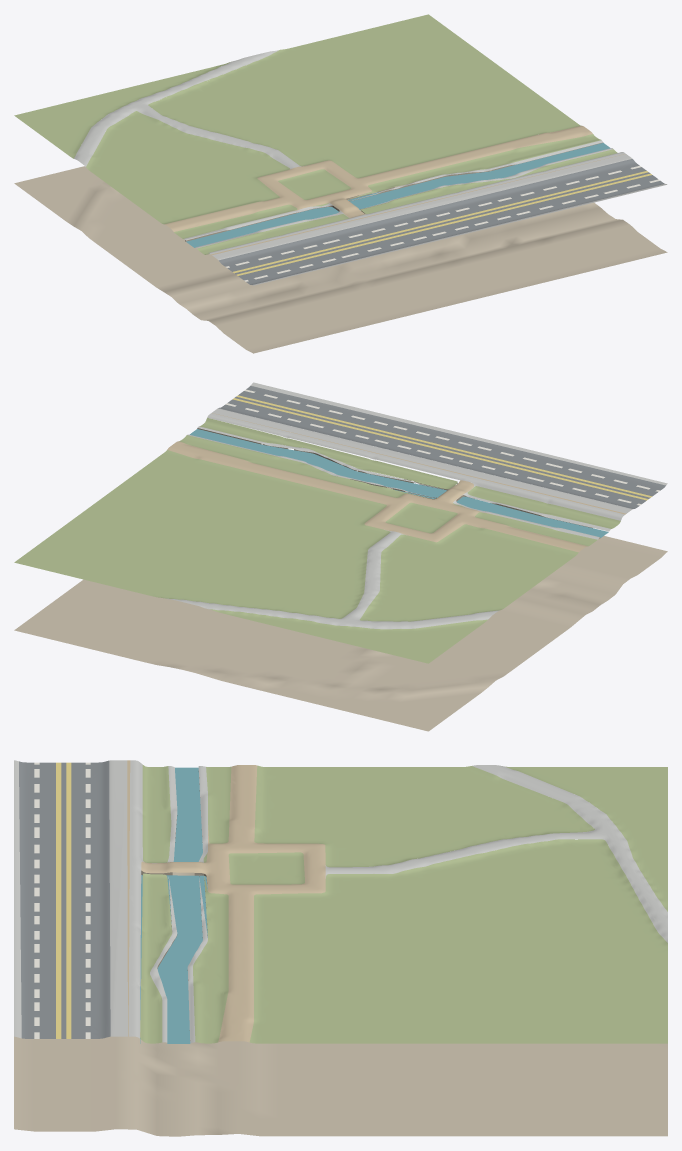
The picture shows the model from 3 angles, top to bottom: view 1: azimuth 30°, elevation 25°; view 2: azimuth 150°, elevation 25°; view 3: azimuth 270°, elevation 25°; orthographic projection. The views are drawn at different scales.
Visible parts, largest first — view 1: s_-6_0__grass, s_-6_0__soil, s_-6_0__asphalt, s_-6_0__stone_paving, s_-6_0__timber_deck, s_-6_0__water, s_-6_0__yellow_marking, s_-6_0__white_marking; view 2: s_-6_0__grass, s_-6_0__soil, s_-6_0__stone_paving, s_-6_0__asphalt, s_-6_0__timber_deck, s_-6_0__water, s_-6_0__yellow_marking, s_-6_0__white_marking; view 3: s_-6_0__grass, s_-6_0__soil, s_-6_0__asphalt, s_-6_0__stone_paving, s_-6_0__timber_deck, s_-6_0__water, s_-6_0__yellow_marking, s_-6_0__white_marking.
Part boxes in pixels (x1=…): s_-6_0__grass: x1=14, y1=14, x2=617, y2=254; s_-6_0__soil: x1=14, y1=166, x2=667, y2=353; s_-6_0__asphalt: x1=219, y1=159, x2=664, y2=284; s_-6_0__stone_paving: x1=74, y1=50, x2=667, y2=285; s_-6_0__timber_deck: x1=165, y1=125, x2=625, y2=255; s_-6_0__water: x1=186, y1=143, x2=610, y2=247; s_-6_0__yellow_marking: x1=233, y1=171, x2=651, y2=275; s_-6_0__white_marking: x1=225, y1=165, x2=659, y2=281; s_-6_0__grass: x1=14, y1=417, x2=620, y2=663; s_-6_0__soil: x1=14, y1=477, x2=667, y2=731; s_-6_0__stone_paving: x1=166, y1=382, x2=667, y2=629; s_-6_0__asphalt: x1=218, y1=385, x2=665, y2=508; s_-6_0__timber_deck: x1=167, y1=413, x2=626, y2=552; s_-6_0__water: x1=190, y1=429, x2=608, y2=537; s_-6_0__yellow_marking: x1=232, y1=395, x2=652, y2=500; s_-6_0__white_marking: x1=225, y1=389, x2=659, y2=505; s_-6_0__grass: x1=140, y1=765, x2=667, y2=1043; s_-6_0__soil: x1=14, y1=872, x2=667, y2=1136; s_-6_0__asphalt: x1=19, y1=760, x2=110, y2=1038; s_-6_0__stone_paving: x1=14, y1=760, x2=667, y2=1043; s_-6_0__timber_deck: x1=127, y1=760, x2=325, y2=1042; s_-6_0__water: x1=140, y1=767, x2=207, y2=1043; s_-6_0__yellow_marking: x1=56, y1=762, x2=71, y2=1038; s_-6_0__white_marking: x1=34, y1=762, x2=90, y2=1038.
Bounding box in the file's own units: 128 × 21.64 × 128.
